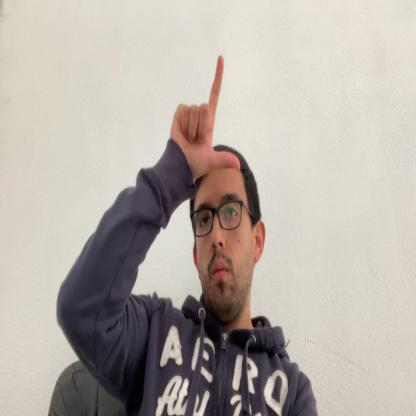L: (170, 55, 241, 184)
